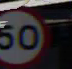Speed limit: (1, 5, 48, 68)
